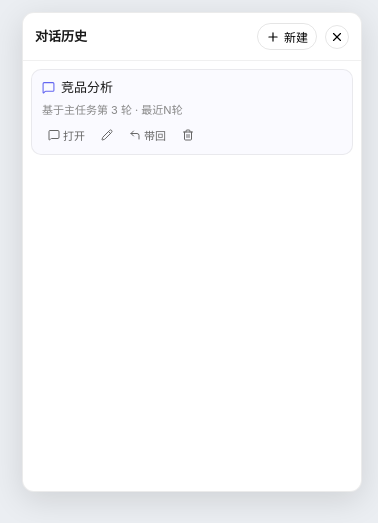
Test: SideSessionPanel › 输入框顶部的「对话历史」按钮返回列表模式
Click the element with class "ssp-item-head" at (78, 87), box [42,79,113,95]
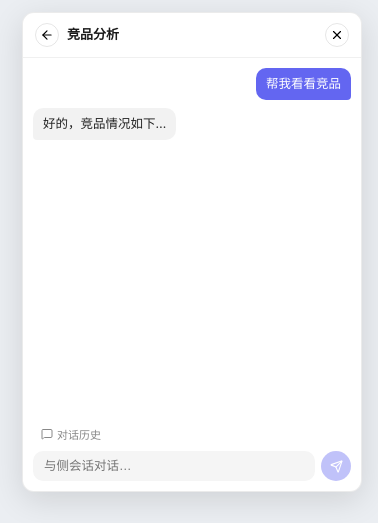
Expected: the field with class "ssp-chat-input" is shown, [33,451,315,481]
Click the button with class "ssp-history-btn" at (71, 434), box [33,423,109,445]
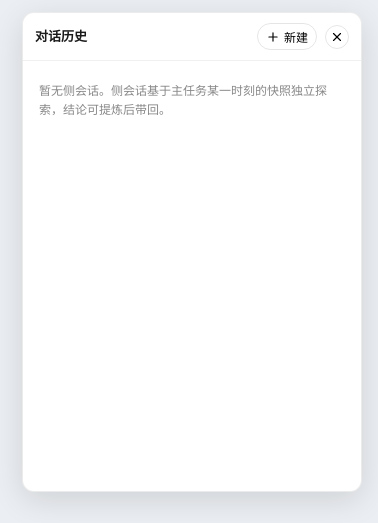
Expected: the button with class "ssp-create-btn" is shown, [257,23,317,50]
